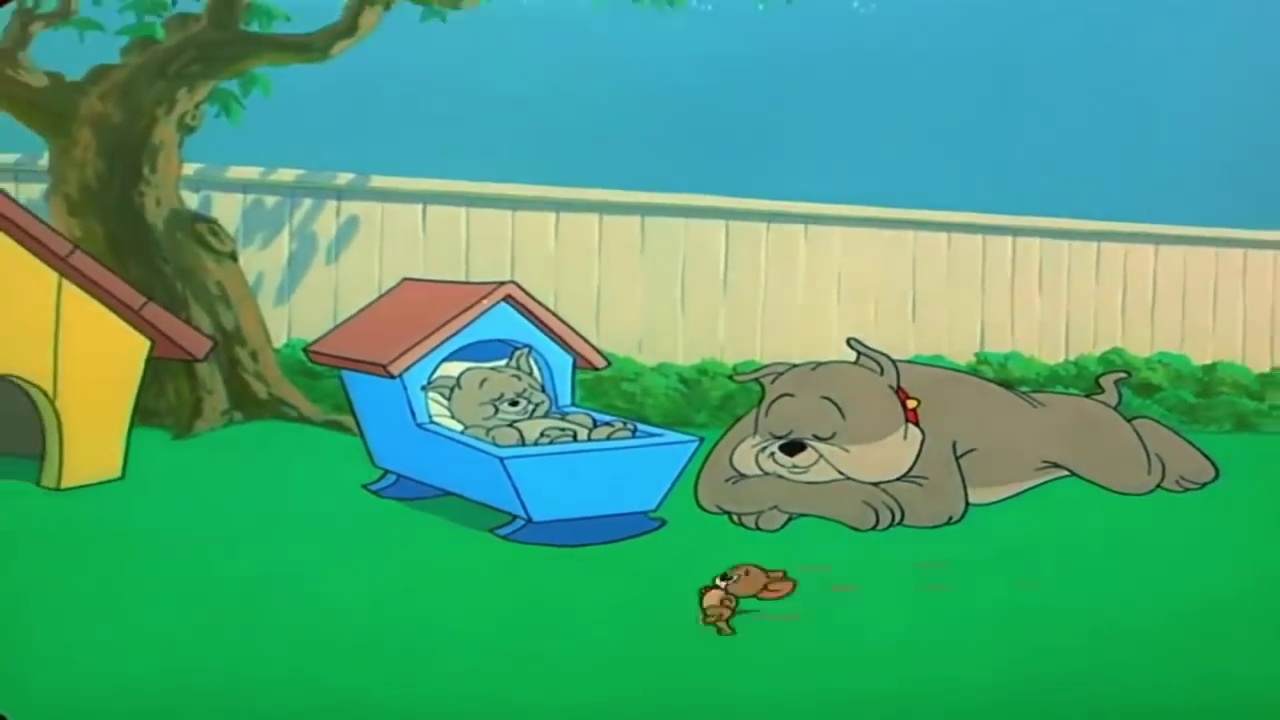spike: (724, 335, 928, 488)
